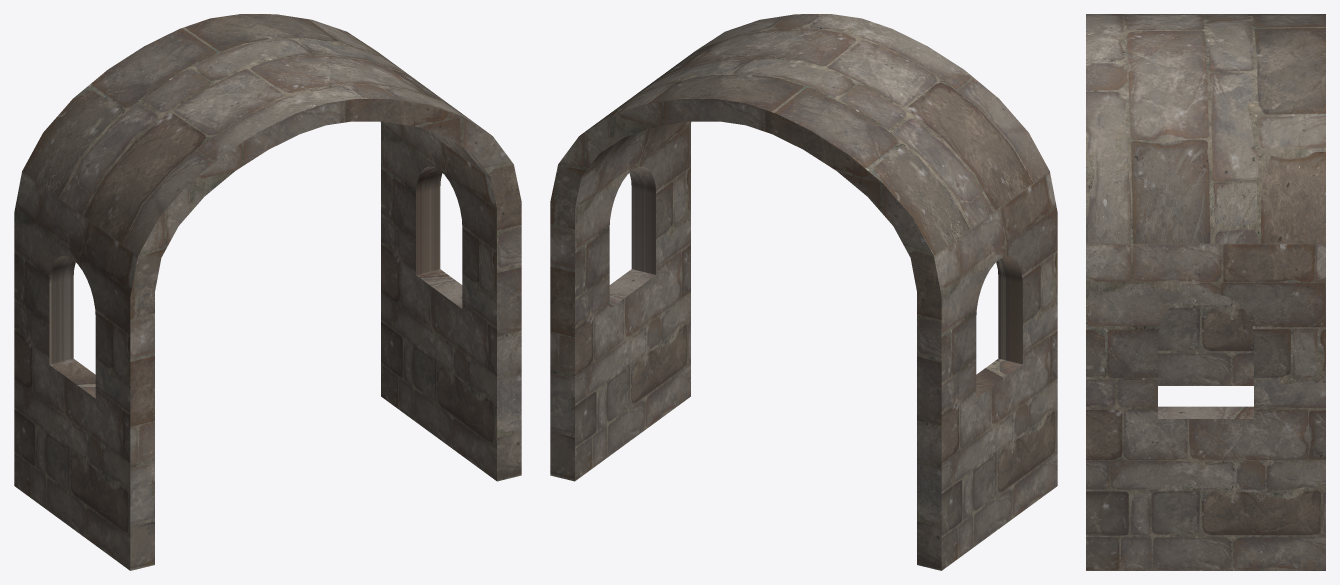
The model's file is SM_StoneArch_01b.fbx.
The picture shows the model from 3 angles, left to right: view 1: azimuth 30°, elevation 25°; view 2: azimuth 150°, elevation 25°; view 3: azimuth 270°, elevation 25°; orthographic projection. The views are drawn at different scales.
Parts seen in each view (by area): view 1: SM_StoneArch_01b; view 2: SM_StoneArch_01b; view 3: SM_StoneArch_01b.
Part boxes in pixels (box(x1,y1,x2,y2)): SM_StoneArch_01b: box(14, 14, 521, 570); SM_StoneArch_01b: box(550, 14, 1057, 570); SM_StoneArch_01b: box(1086, 14, 1325, 570).
Size of the model in its own units: 974 by 999 by 500.
1 material, 1 textured.
